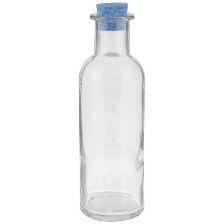bottle: (68, 6, 159, 222)
